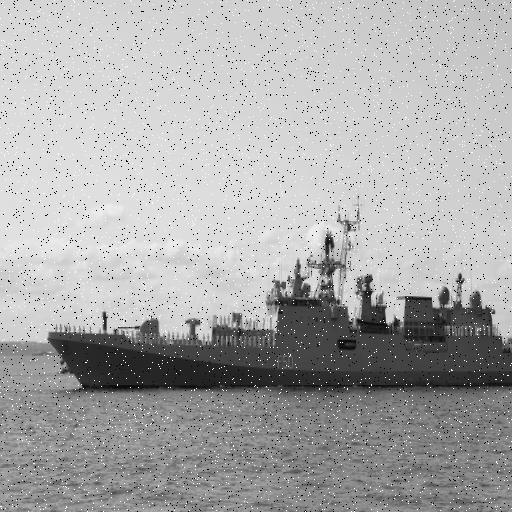Fragata: (48, 192, 512, 400)
